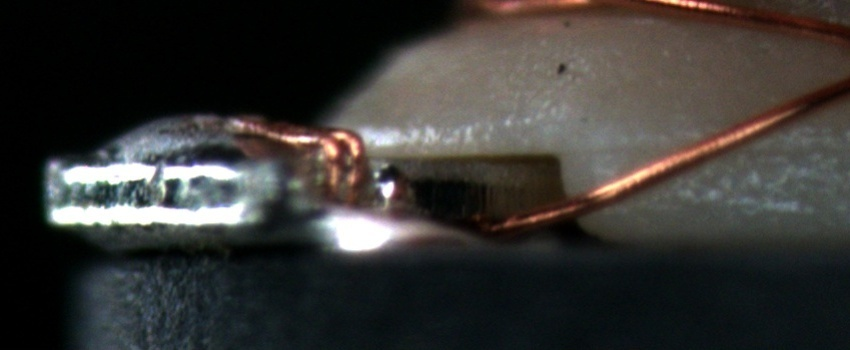DL: (566, 119, 849, 178)
TE: (239, 117, 375, 220)
